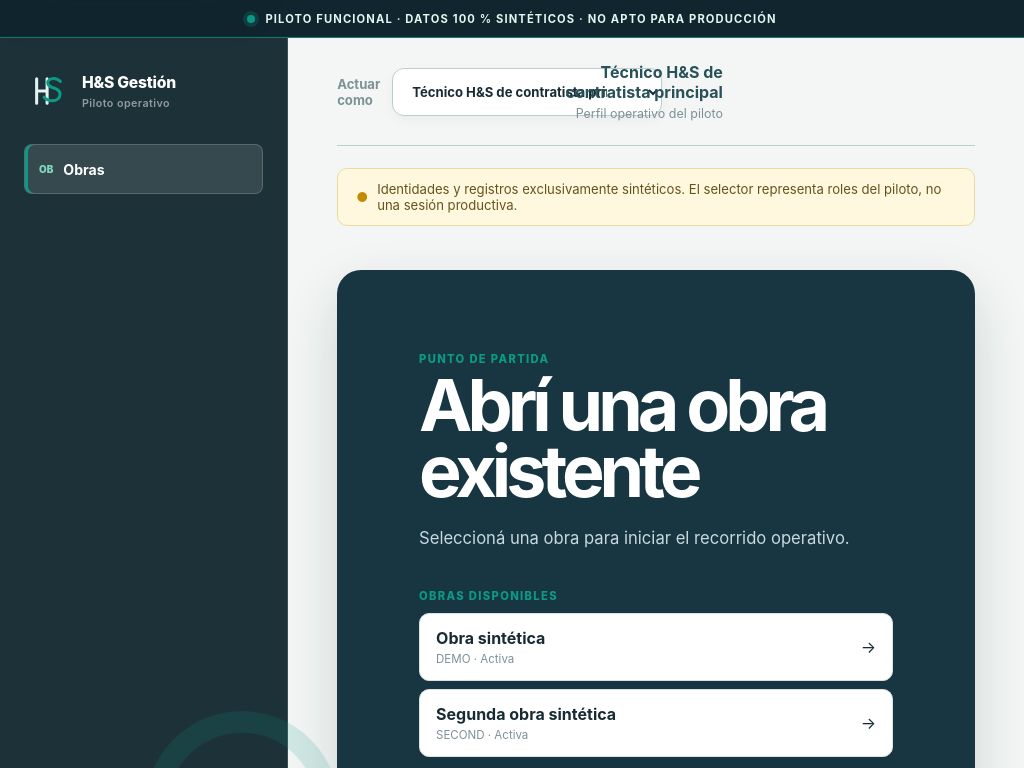
Test: AUD009 ignores reversed worksite detail responses
The image size is (1024, 768).
Click the button "Obra sintética DEMO · Activa →": (491, 638) [419,613,893,681]
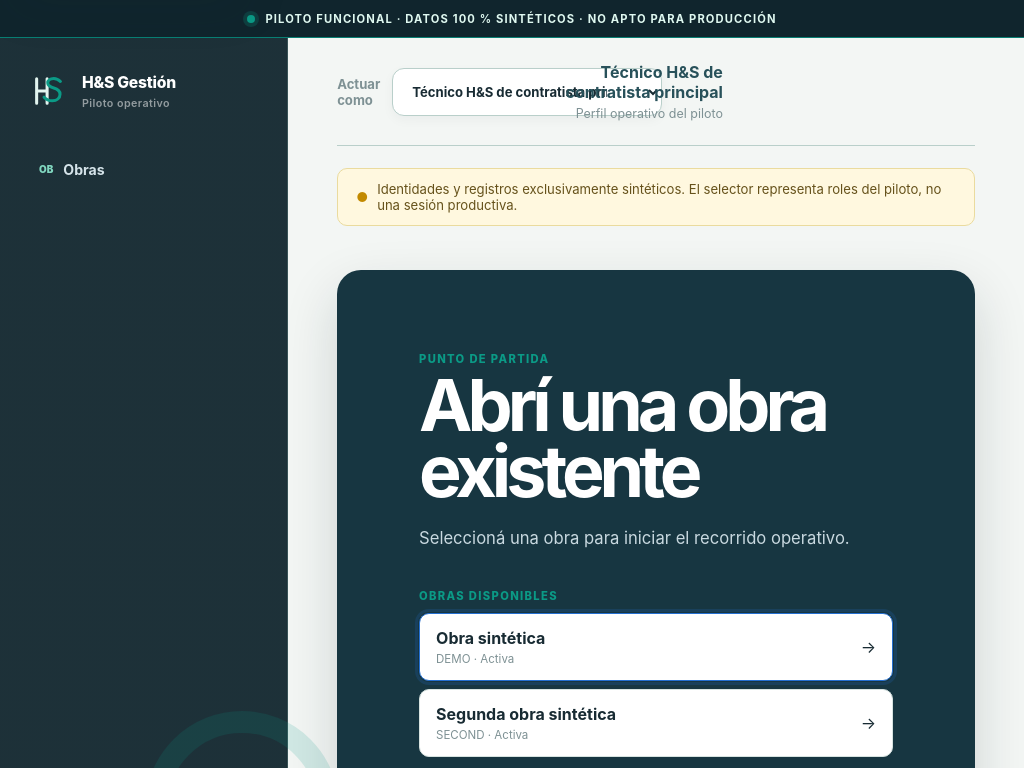
Click the button "OB Obras": (144, 169) [24,144,263,194]
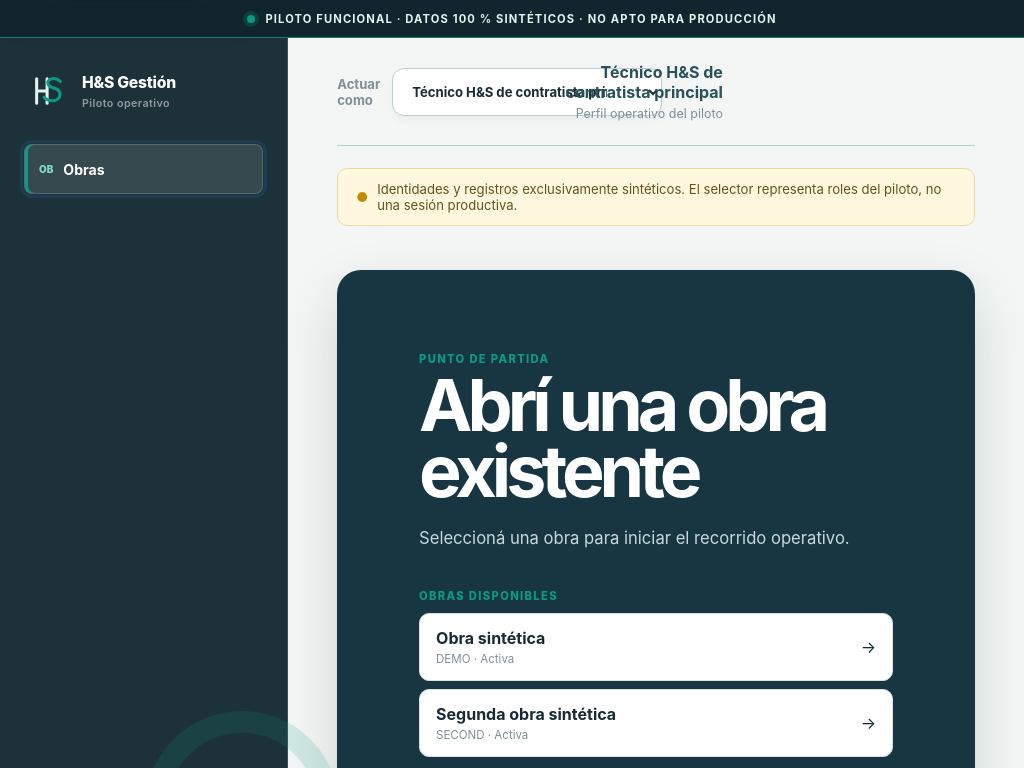
Click the button "Segunda obra sintética SECOND · Activa →": (526, 714) [419,689,893,757]
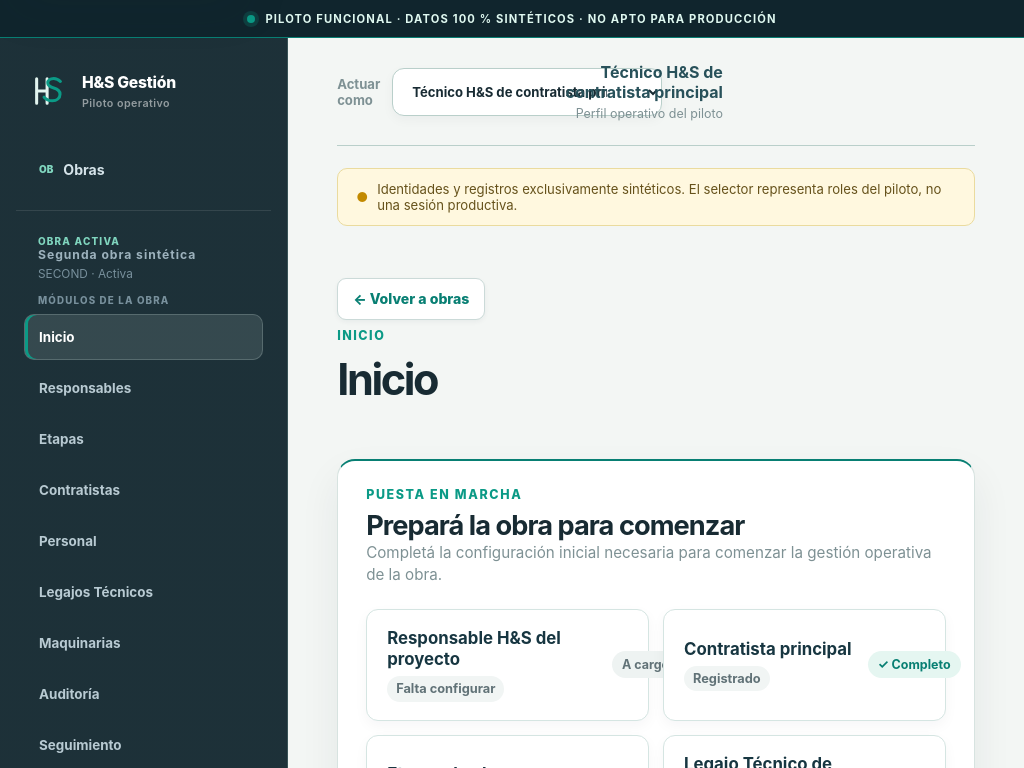
Check: the text "Segunda obra sintética" is shown, box [38,247,196,262]
Check: the tab "Inicio" is shown, box [24,314,263,360]
